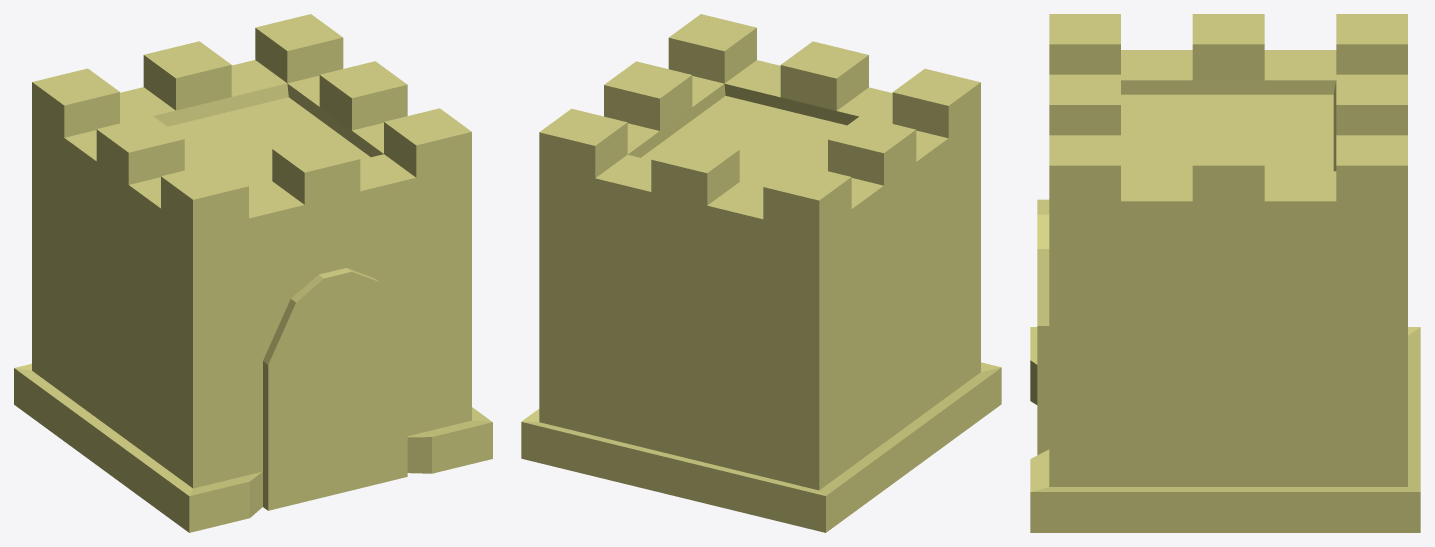
The model's file is zandkasteel.fbx.
The picture shows the model from 3 angles, left to right: view 1: azimuth 30°, elevation 25°; view 2: azimuth 150°, elevation 25°; view 3: azimuth 270°, elevation 25°; orthographic projection. The views are drawn at different scales.
Parts seen in each view (by area): view 1: Cube; view 2: Cube; view 3: Cube.
Boxes of the visible parts, box(x1,y1,x2,y2) form: Cube: box(14, 14, 492, 532); Cube: box(521, 14, 1001, 532); Cube: box(1030, 14, 1420, 532).
Bounding box in the file's own units: 0.2999 × 0.306 × 0.2999.
